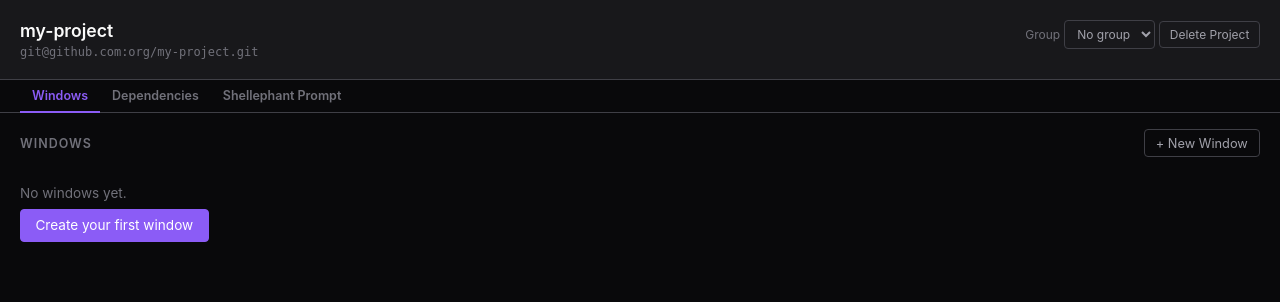
ProjectView › dependencies tab › shows validation error when image save fails
Click the button "Dependencies": [155, 96] box x1=100 y1=80 x2=211 y2=113
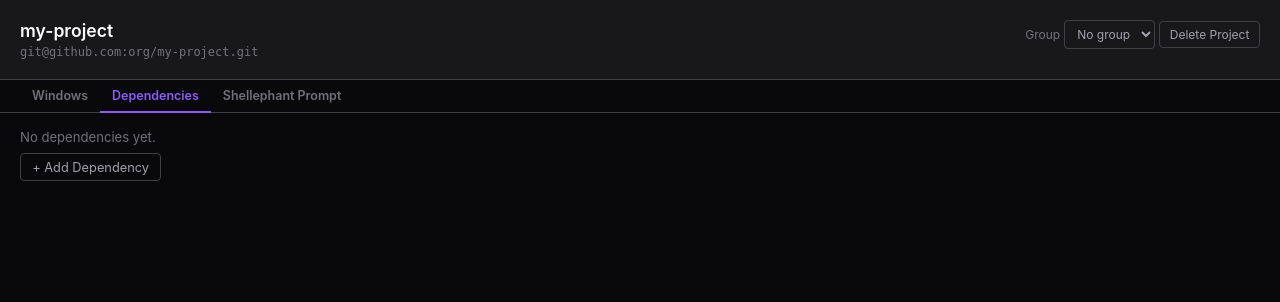
Expected: the button "+ Add Dependency" is shown
Click the button "+ Add Dependency": [91, 167] box x1=20 y1=153 x2=161 y2=181
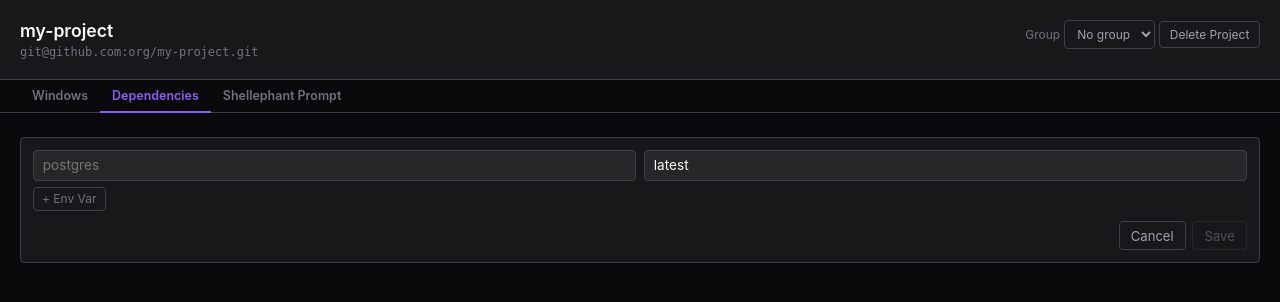
Expected: the field with placeholder "postgres" is shown
In the field with placeholder "postgres": [334, 165] box x1=33 y1=150 x2=636 y2=181, type "badimg"
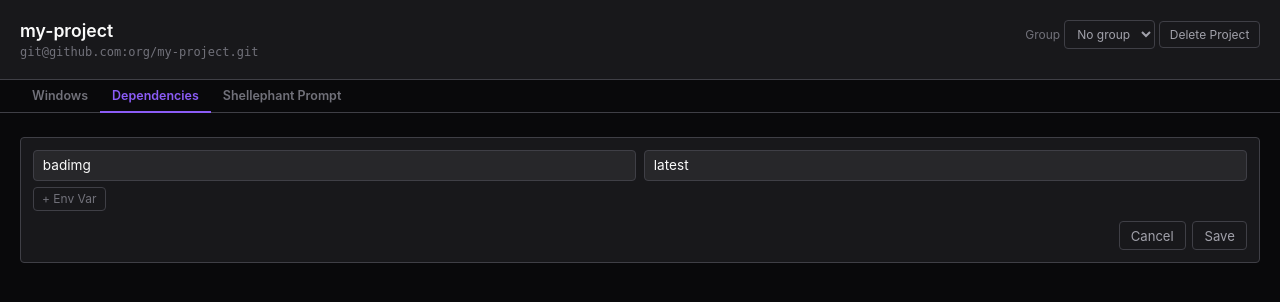
Click the button with aria-label "save dependency": [1220, 236] box x1=1192 y1=221 x2=1247 y2=250
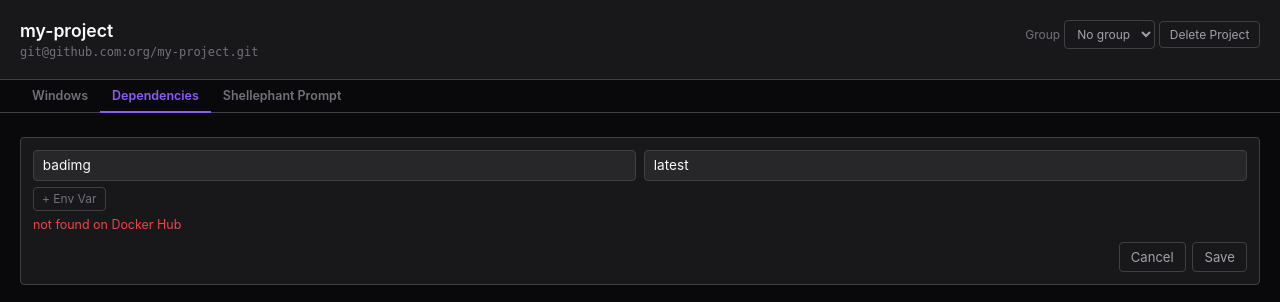
Expected: the text "not found on Docker Hub" is shown, x1=33 y1=217 x2=181 y2=232
